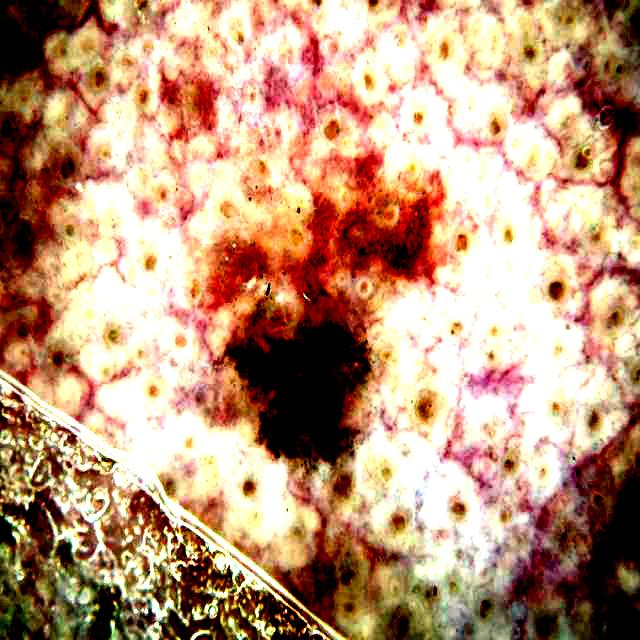AKIEC: (205, 100, 459, 514)
